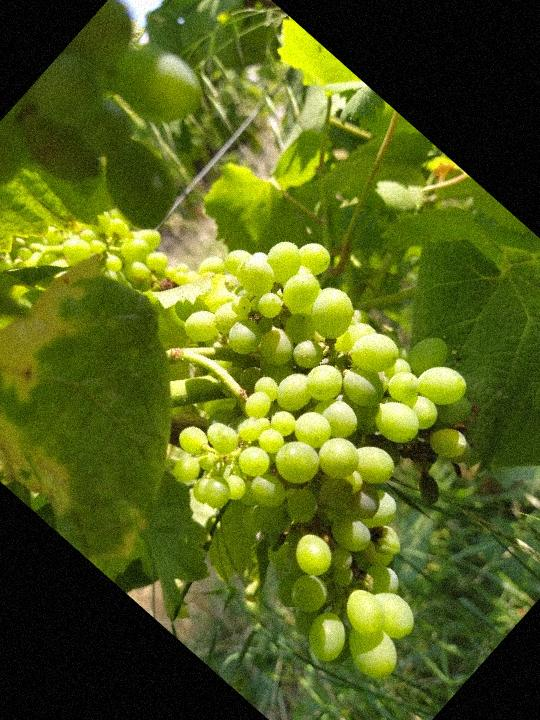grape: (51, 179, 540, 708)
